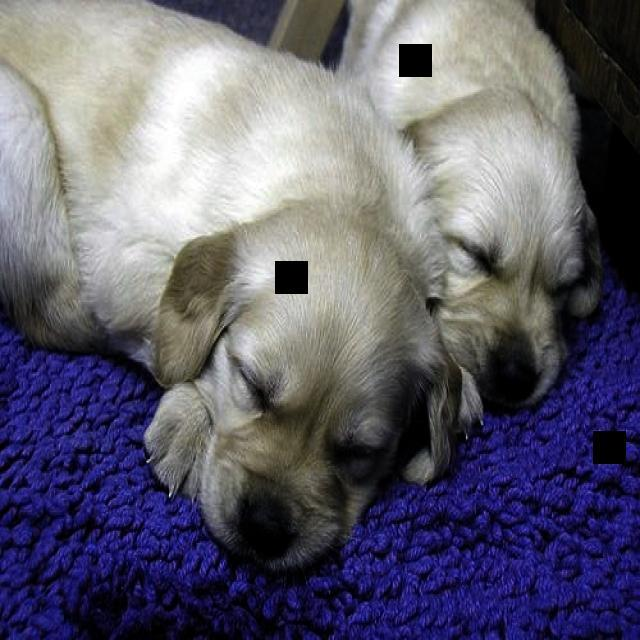puppy-dog: (2, 1, 488, 586), (338, 2, 616, 416)
